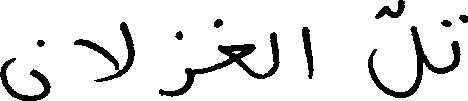X: (369, 0, 423, 100), (75, 17, 133, 86), (0, 35, 49, 100), (160, 26, 194, 100), (218, 14, 255, 82), (452, 10, 467, 75), (303, 22, 313, 83), (272, 27, 279, 79)
